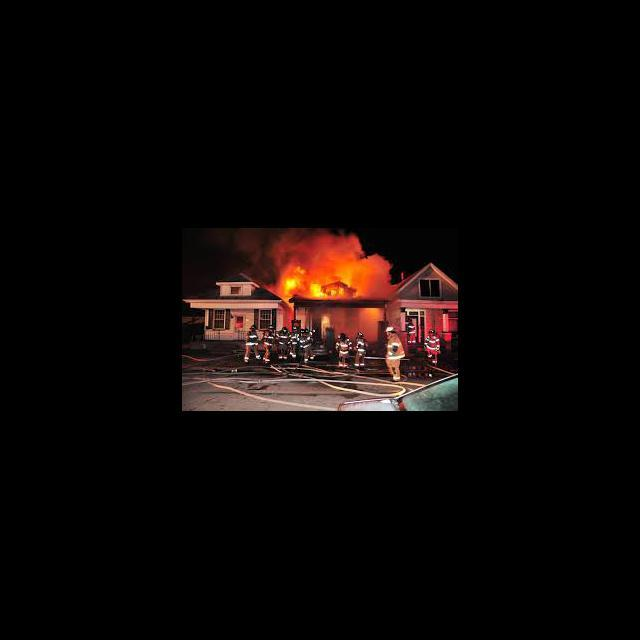Fire: (280, 262, 352, 300)
Smoke: (227, 228, 362, 260), (356, 253, 394, 299), (337, 308, 375, 332)
